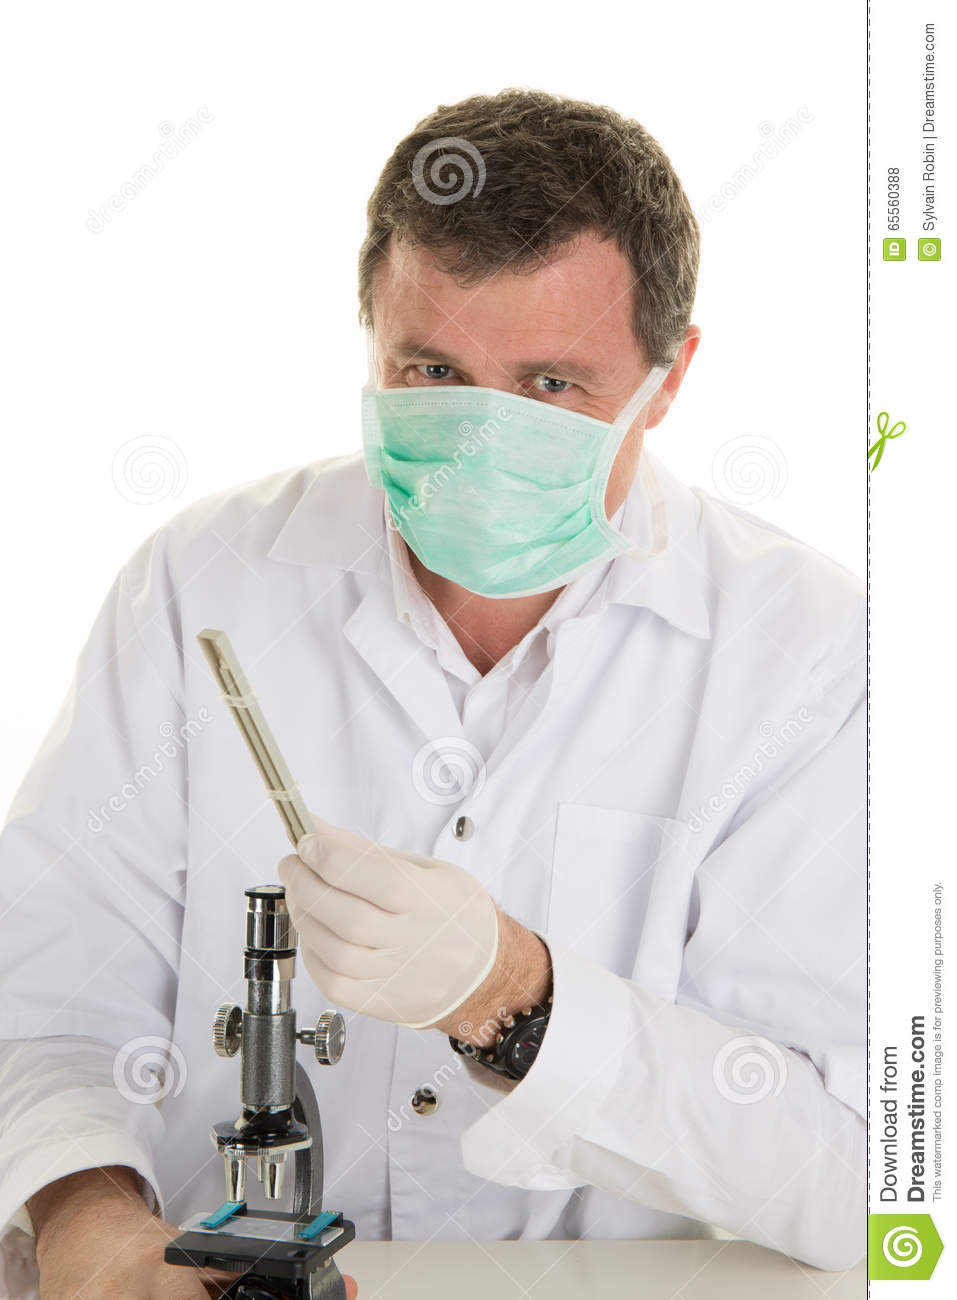mask: (360, 390, 622, 595)
